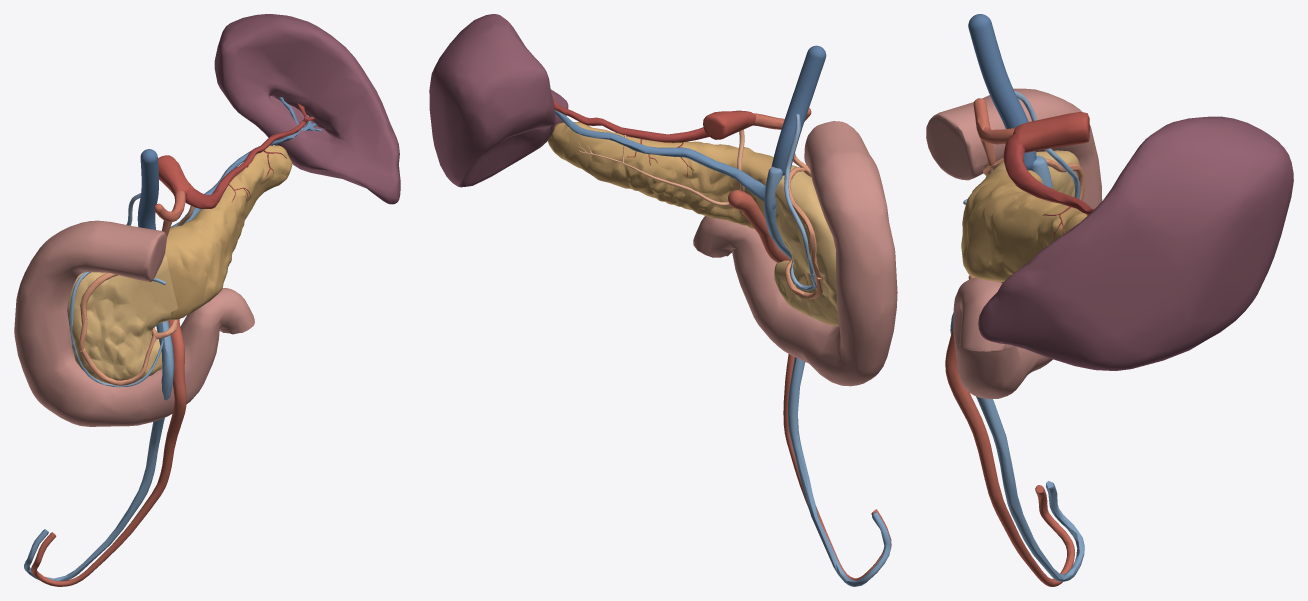
The model's file is pancreas.glb.
3 views of the same model, side by side, from view 1: azimuth 30°, elevation 25°; view 2: azimuth 150°, elevation 25°; view 3: azimuth 270°, elevation 25° (orthographic). The views are drawn at different scales.
Parts seen in each view (by area): view 1: duodenum, spleen, pancreatic-head, pancreatic-body-and-tail, superior-mesenteric-artery, superior-mesenteric-vein, splenic-artery, pancreaticoduodenal-arteries, portal-vein, pancreaticoduodenal-veins, celiac-trunk, splenic-vein (+1 smaller); view 2: duodenum, spleen, pancreatic-body-and-tail, pancreatic-head, superior-mesenteric-vein, superior-mesenteric-artery, portal-vein, splenic-vein, splenic-artery, pancreaticoduodenal-arteries, celiac-trunk, pancreaticoduodenal-veins (+1 smaller); view 3: spleen, duodenum, pancreatic-body-and-tail, superior-mesenteric-artery, superior-mesenteric-vein, portal-vein, celiac-trunk, splenic-artery, pancreatic-head, common-hepatic-artery, pancreaticoduodenal-veins, pancreaticoduodenal-arteries.
Boxes of the visible parts, x1,y1,x2,y2 form: duodenum: [14, 220, 254, 426]; spleen: [214, 14, 400, 204]; pancreatic-head: [67, 254, 178, 385]; pancreatic-body-and-tail: [165, 145, 292, 319]; superior-mesenteric-artery: [31, 319, 186, 586]; superior-mesenteric-vein: [24, 321, 174, 581]; splenic-artery: [185, 103, 314, 208]; pancreaticoduodenal-arteries: [79, 272, 177, 385]; portal-vein: [137, 149, 158, 229]; pancreaticoduodenal-veins: [69, 193, 165, 387]; celiac-trunk: [158, 155, 193, 196]; splenic-vein: [170, 97, 321, 227]; duodenum: [693, 121, 897, 386]; spleen: [429, 14, 568, 187]; pancreatic-body-and-tail: [547, 122, 779, 232]; pancreatic-head: [765, 165, 839, 326]; superior-mesenteric-vein: [763, 166, 890, 586]; superior-mesenteric-artery: [728, 190, 891, 580]; portal-vein: [771, 45, 826, 175]; splenic-vein: [555, 110, 776, 208]; splenic-artery: [553, 99, 709, 176]; pancreaticoduodenal-arteries: [785, 157, 822, 299]; celiac-trunk: [703, 110, 756, 139]; pancreaticoduodenal-veins: [784, 114, 816, 290]; spleen: [978, 116, 1293, 370]; duodenum: [926, 88, 1102, 399]; pancreatic-body-and-tail: [961, 169, 1087, 281]; superior-mesenteric-artery: [945, 282, 1074, 586]; superior-mesenteric-vein: [950, 155, 1084, 581]; portal-vein: [968, 14, 1036, 170]; celiac-trunk: [1013, 112, 1089, 152]; splenic-artery: [1003, 133, 1094, 236]; pancreatic-head: [983, 150, 1080, 197]; common-hepatic-artery: [973, 98, 1014, 144]; pancreaticoduodenal-veins: [963, 91, 1080, 204]; pancreaticoduodenal-arteries: [968, 158, 1084, 279].
Bounding box in the file's own units: 2.87 × 3.4 × 1.77.
